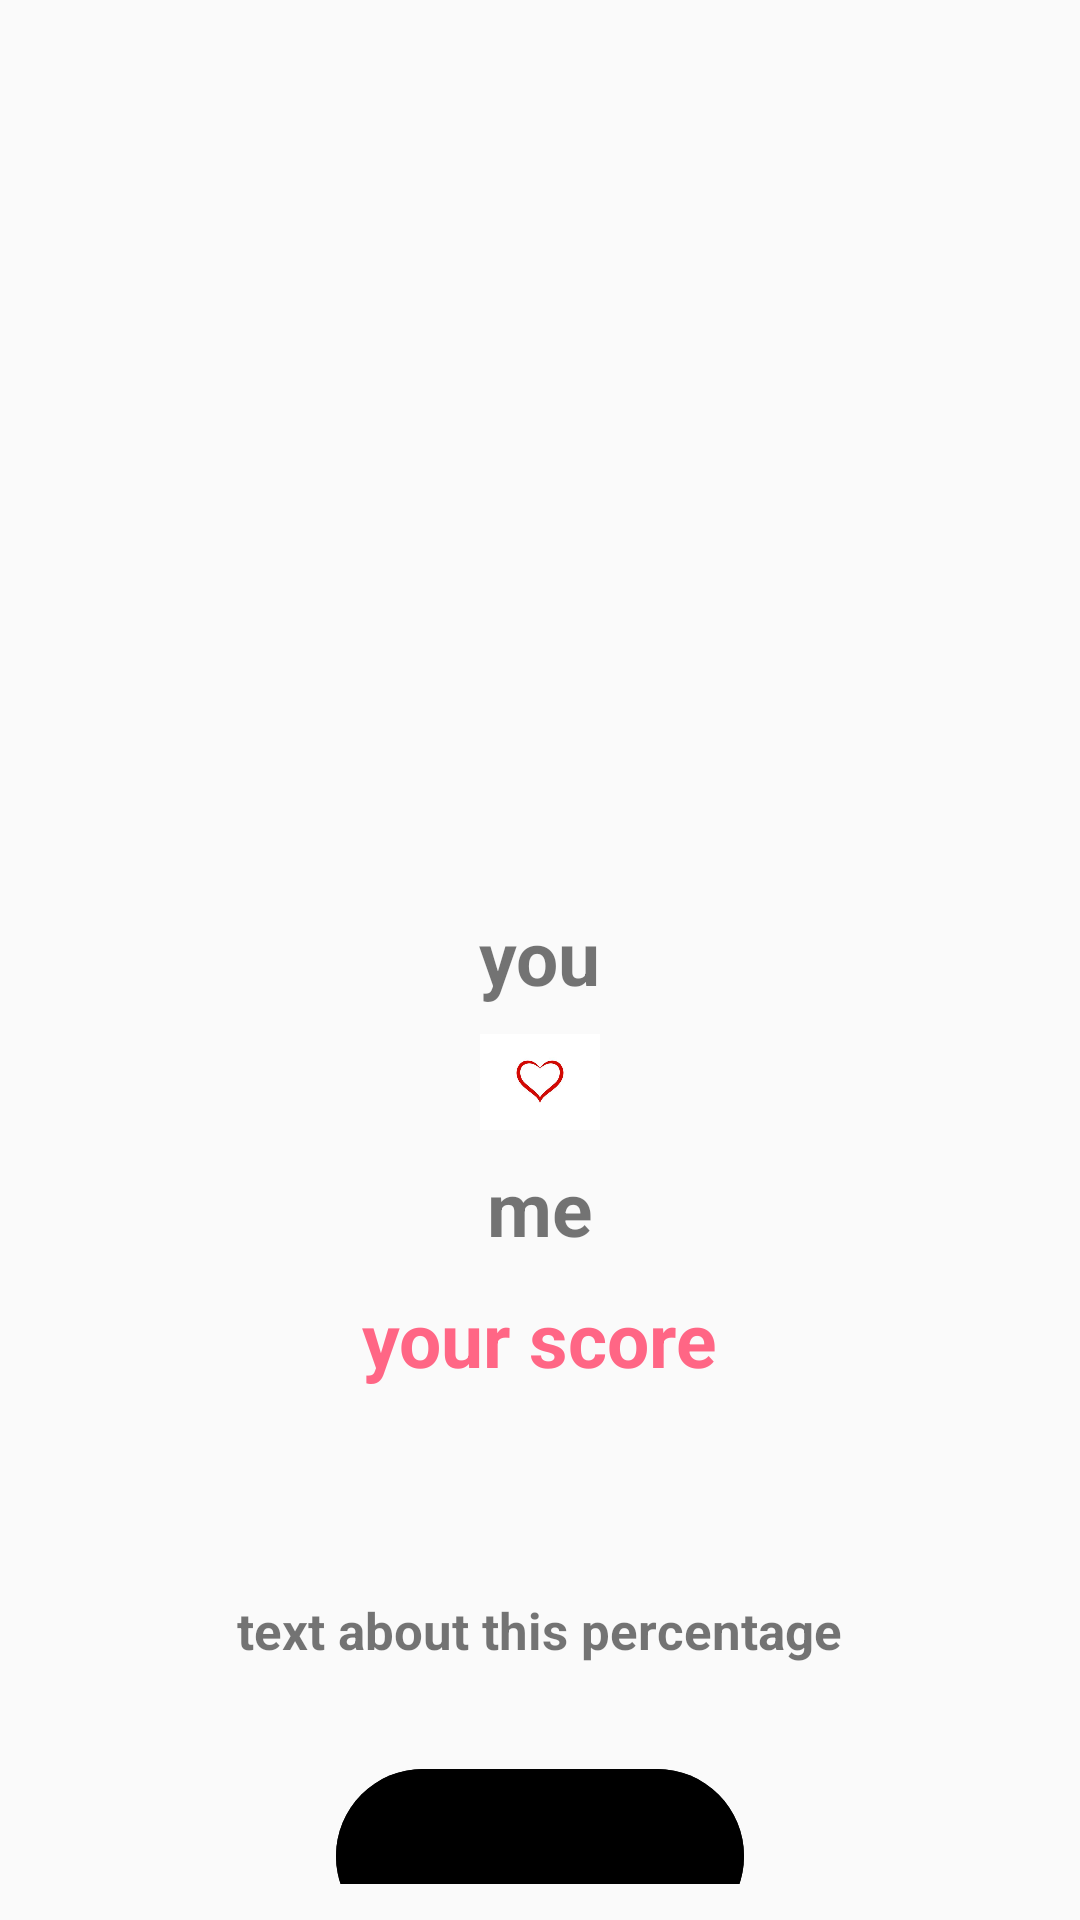

Icon click points for this 1080w x 1920h phone screenshot, format point (x, y):
love: point (540, 1081)
